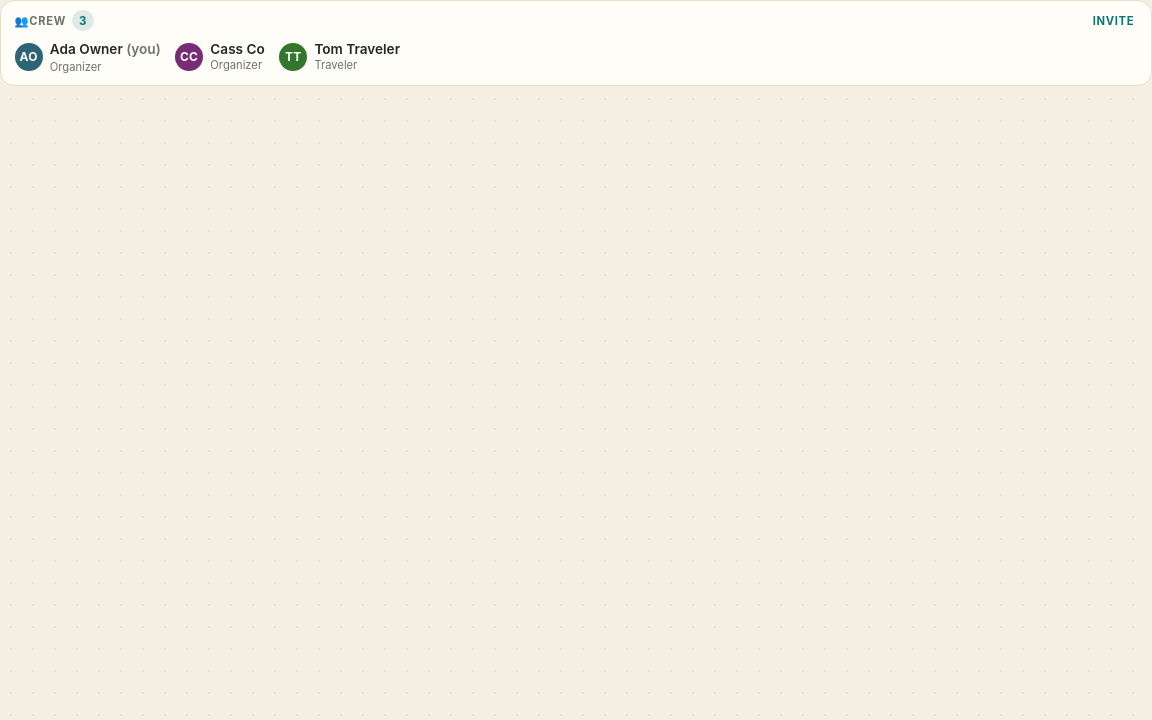
Test: crew quick actions › asks before removing, rather than removing
This screenshot has width=1152, height=720.
What coordinates should you click on to do the following:
click the button with aria-label "Actions for Tom Traveler"
I would click on:
 (340, 57)
Its box is x1=279 y1=41 x2=400 y2=72.
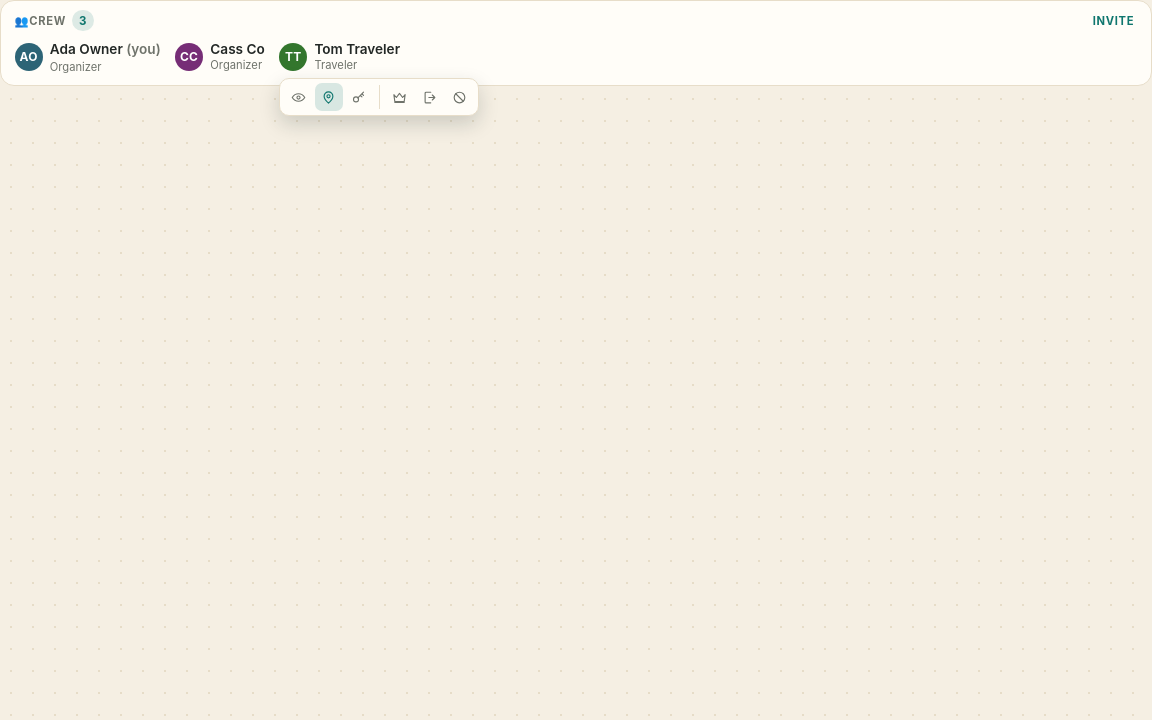
What coordinates should you click on to do the following:
click the button named "Remove Tom Traveler from the trip"
I would click on:
 (430, 97)
Its box is x1=416 y1=83 x2=444 y2=111.
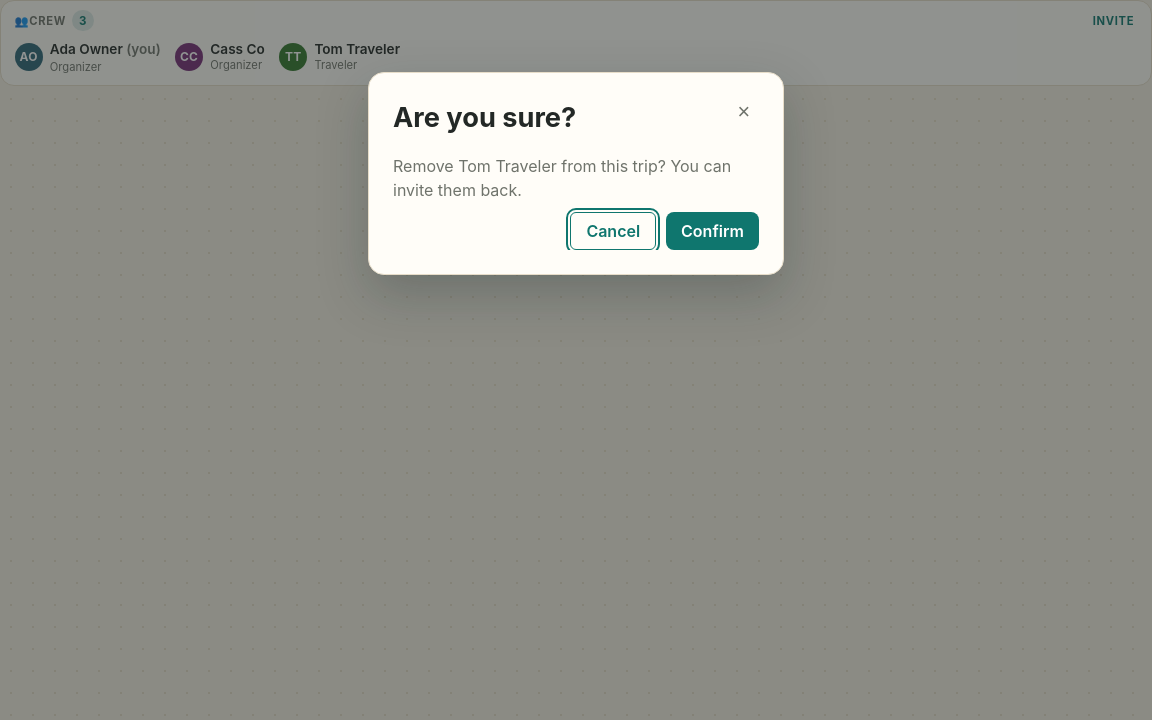
Now the dialog is shown, box x1=368 y1=72 x2=784 y2=275
Now the text "Remove Tom Traveler from this trip? You can invite" is shown, box x1=393 y1=156 x2=731 y2=200
